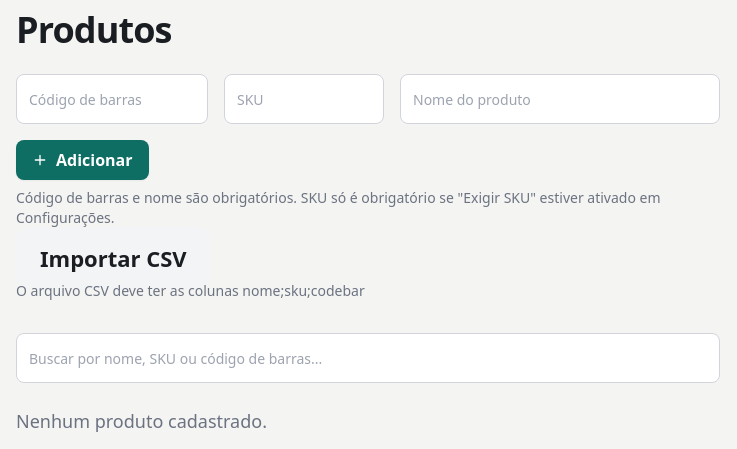
Test case: ProductsPage › shows an error and does not submit when the barcode or name is left blank
Type "SKU-X" into the field with placeholder "SKU" at (304, 99), box [224,74,384,124]
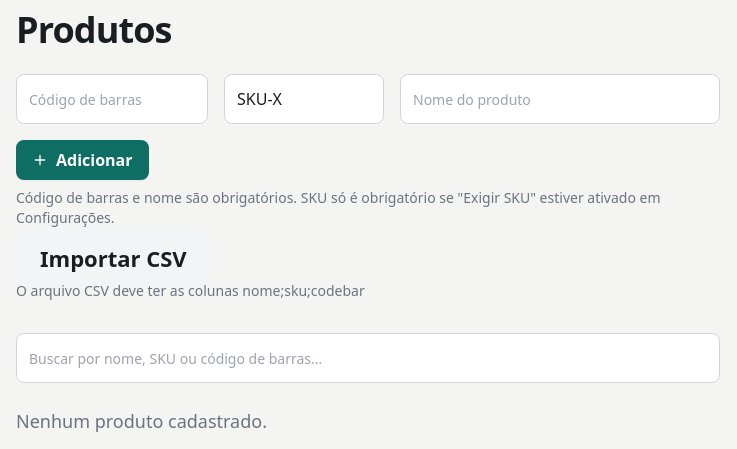
Click the button "Adicionar" at (82, 160), box [16,140,148,180]
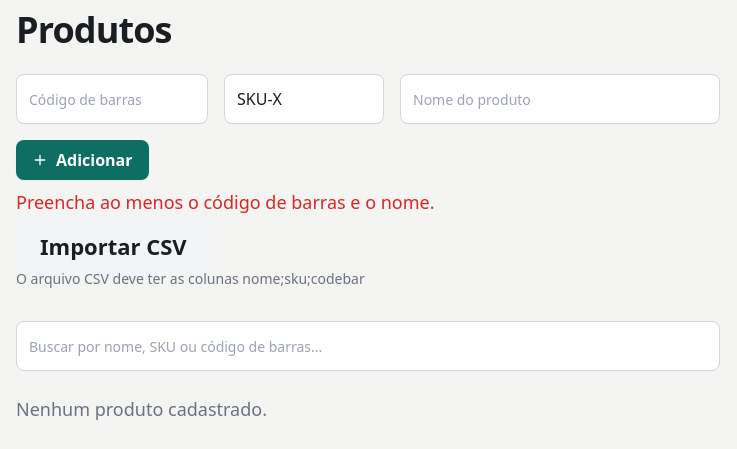
Expected: the text "Preencha ao menos o código de barras e o nome." is shown, [16,190,435,214]
